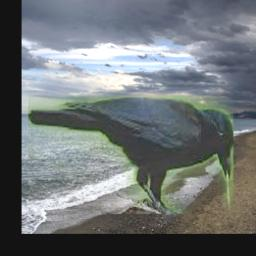Crow: (29, 95, 234, 214)
